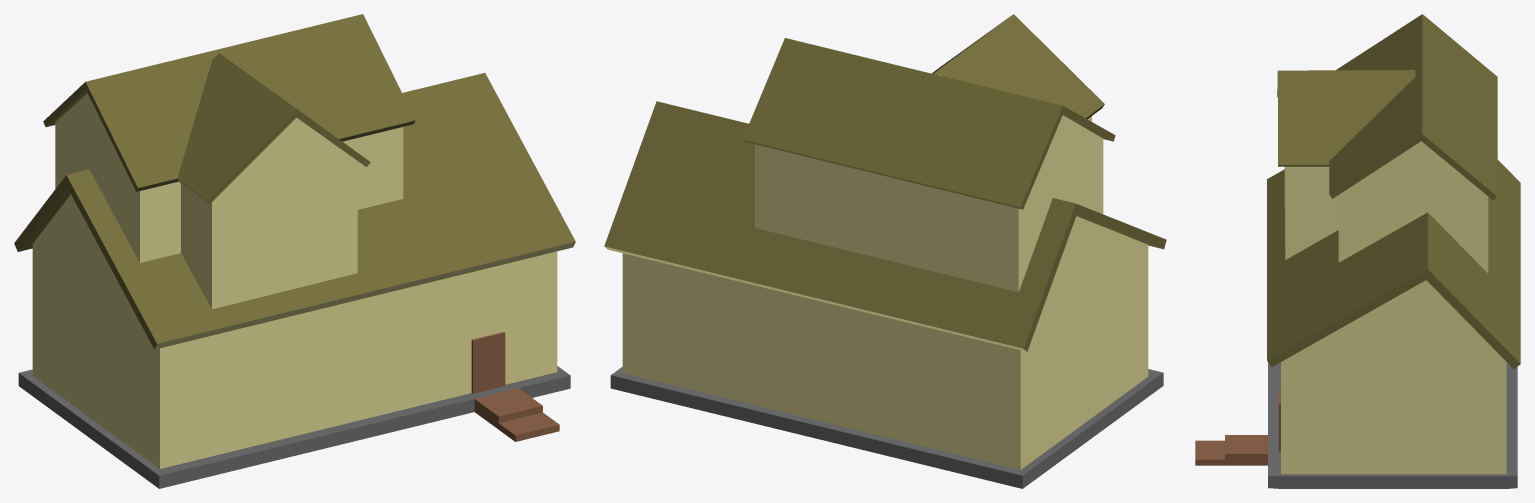
The model's file is house2.fbx.
3 renders of one model, left to right at view 1: azimuth 30°, elevation 25°; view 2: azimuth 150°, elevation 25°; view 3: azimuth 270°, elevation 25°, orthographic. The views are drawn at different scales.
Parts seen in each view (by area): view 1: Cube; view 2: Cube; view 3: Cube.
Boxes of the visible parts, x1=… form: Cube: x1=14, y1=14, x2=575, y2=488; Cube: x1=604, y1=14, x2=1166, y2=488; Cube: x1=1195, y1=14, x2=1520, y2=488.
Bounding box in the file's own units: 1838 × 1443 × 1394.
